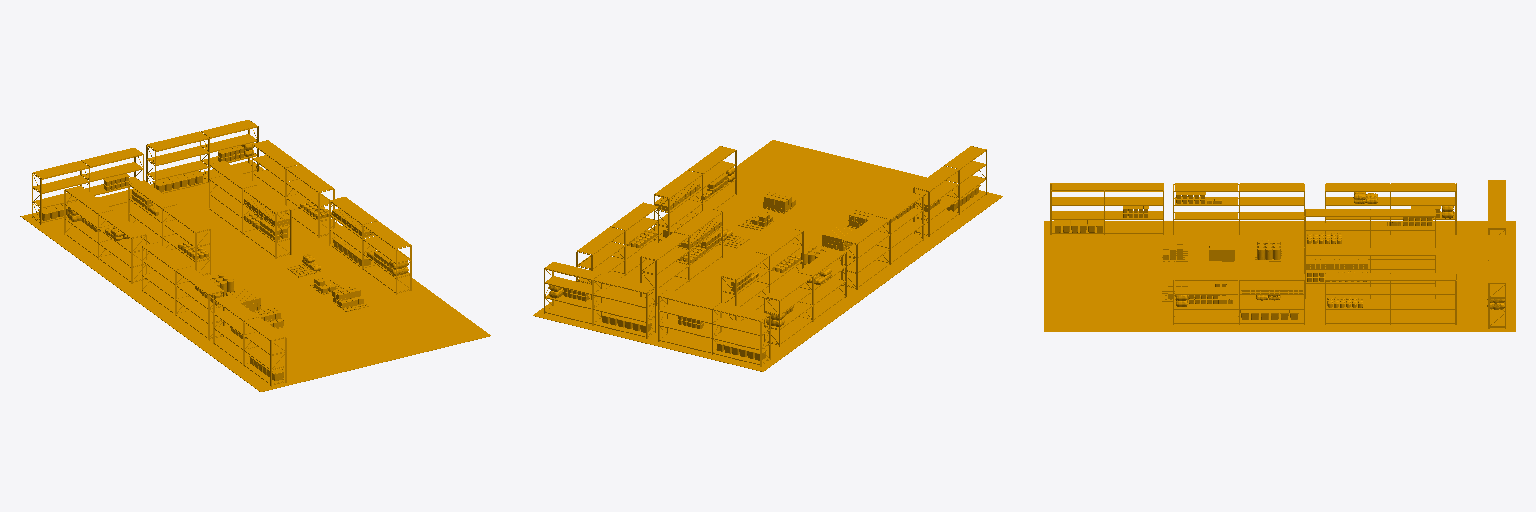
The robot description file, URDF, robot "warehouse":
<?xml version="1.0" ?>
<robot name="warehouse">
  <link name="root">
    <visual>
      <origin xyz="0 0 0" rpy="0 0 0" />
      <geometry>
        <mesh filename="warehouse.obj" scale="0.5 0.5 0.5"/>
      </geometry>
    </visual>
    <collision>
      <origin xyz="0 0 0" rpy="0 0 0" />
      <geometry>
        <mesh filename="warehouse.obj" scale="0.5 0.5 0.5"/>
      </geometry>
    </collision>
  </link>
</robot>

--- Render facts (derived) ---
The picture shows the robot from 3 angles, left to right: view 1: azimuth 30°, elevation 25°; view 2: azimuth 150°, elevation 25°; view 3: azimuth 270°, elevation 25°; orthographic projection.
Robot: warehouse — 1 links, 0 joints (none); root link root; default pose: all joints at 0.
Visible links, largest first — view 1: root; view 2: root; view 3: root.
Link boxes in pixels (bbox=[...]): root: bbox=[20, 120, 490, 391]; root: bbox=[533, 140, 1002, 371]; root: bbox=[1044, 180, 1515, 331].
Size in the robot's own frame: 8.66 by 15.62 by 1.65 metres.
Meshes: 1 distinct files referenced, 1 mesh visuals loaded (1 OBJ).
